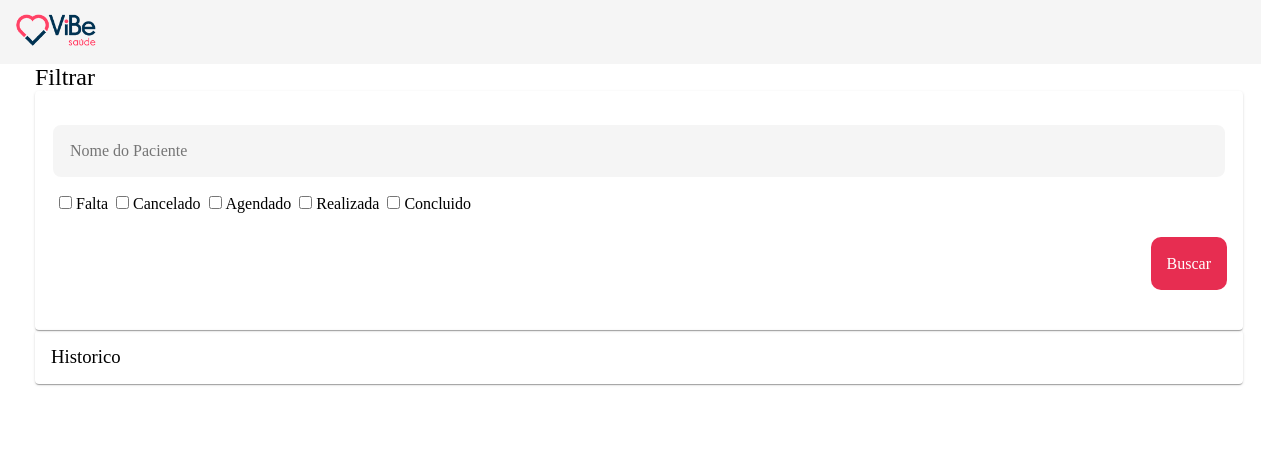
Doctor Appointment › Should filter by status
This screenshot has width=1261, height=467.
Click the checkbox with id "Agendado".
click(216, 203)  # box [209,196,222,209]
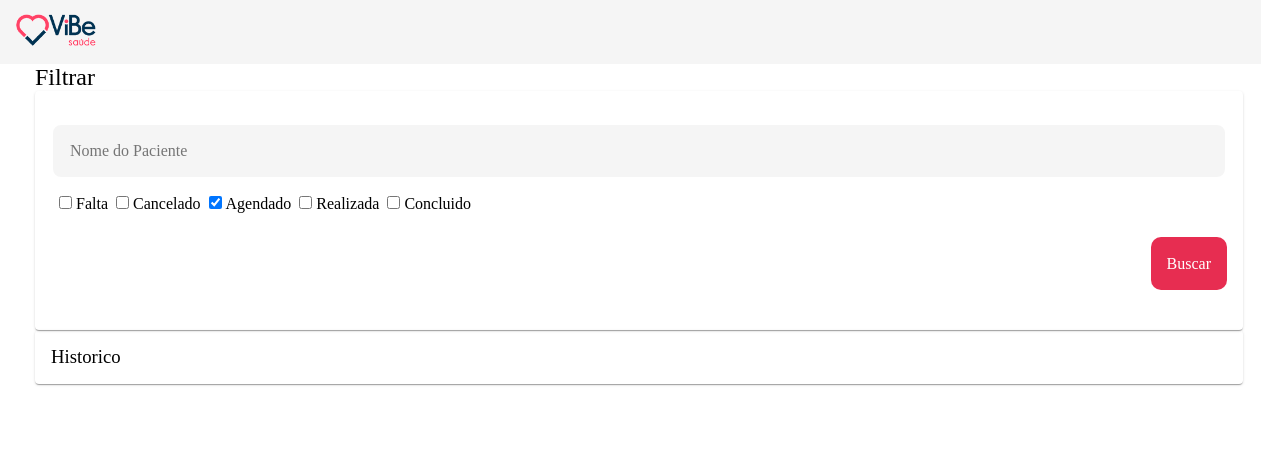
Click the button "Buscar".
click(1189, 264)  # box [1151,237,1227,290]
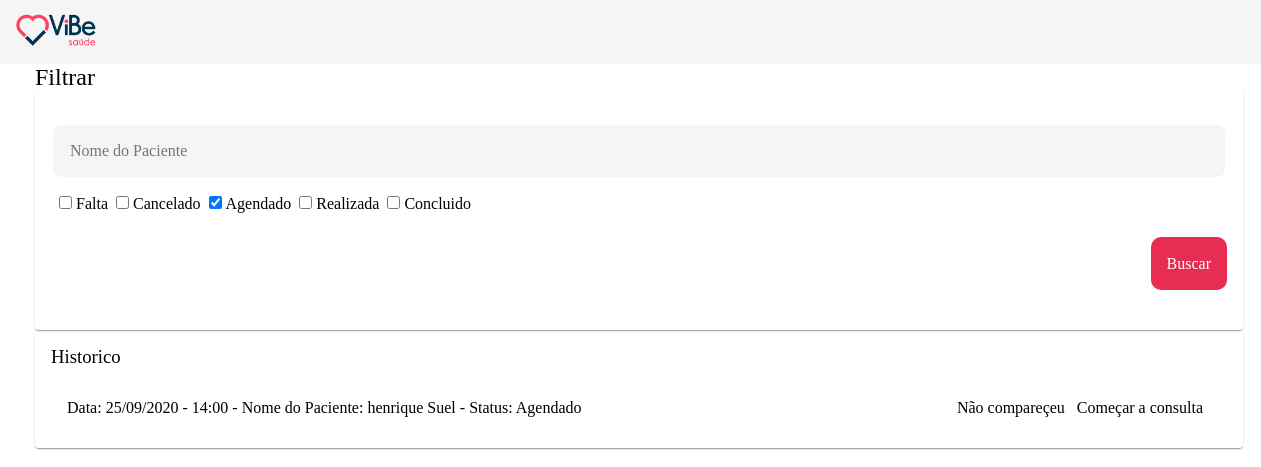
Now the text "henrique" is shown, box [67,399,582,416]
